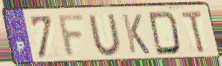7: (29, 14, 54, 61)
D: (147, 10, 183, 57)
F: (57, 12, 88, 60)
K: (120, 13, 152, 56)
T: (180, 9, 208, 55)
U: (87, 12, 124, 58)
